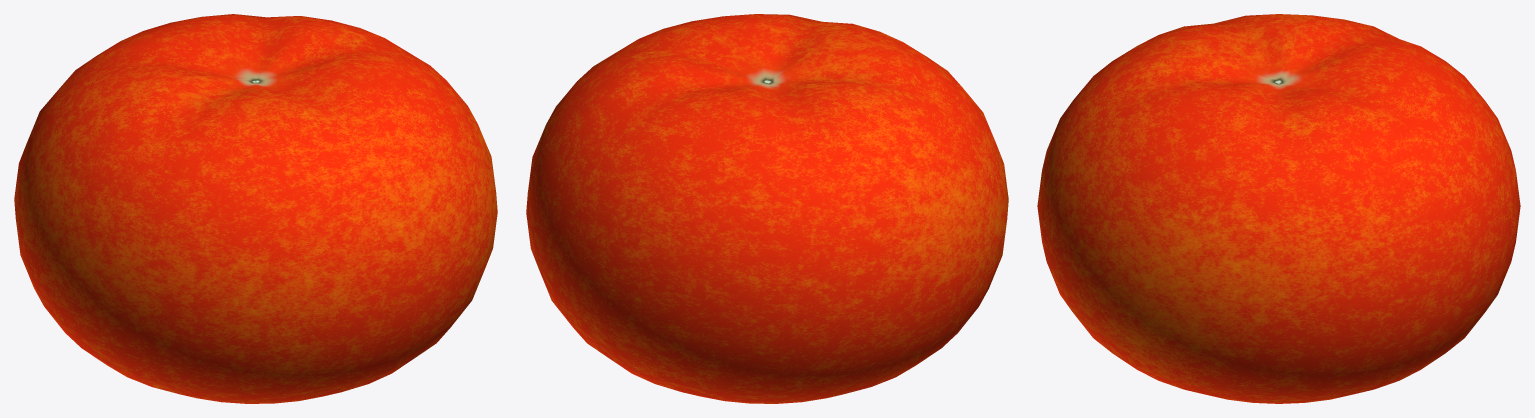
Rendered from Tomato.glb.
3 renders of one model, left to right at view 1: azimuth 30°, elevation 25°; view 2: azimuth 150°, elevation 25°; view 3: azimuth 270°, elevation 25°, orthographic.
Parts seen in each view (by area): view 1: Sphere; view 2: Sphere; view 3: Sphere.
Boxes of the visible parts, box(x1,y1,x2,y2) form: Sphere: box(14, 14, 497, 403); Sphere: box(526, 14, 1008, 403); Sphere: box(1037, 14, 1520, 403).
Size of the model in its own units: 0.1 by 0.0691 by 0.1.
Materials: 1 (1 with a texture image).
